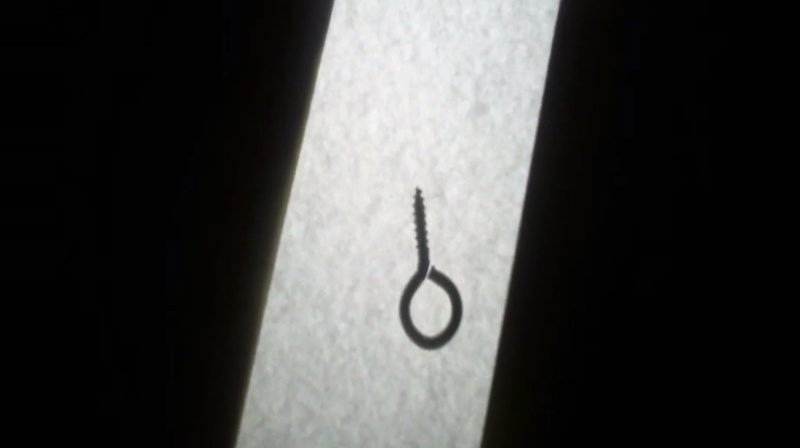O001: (395, 183, 465, 353)
